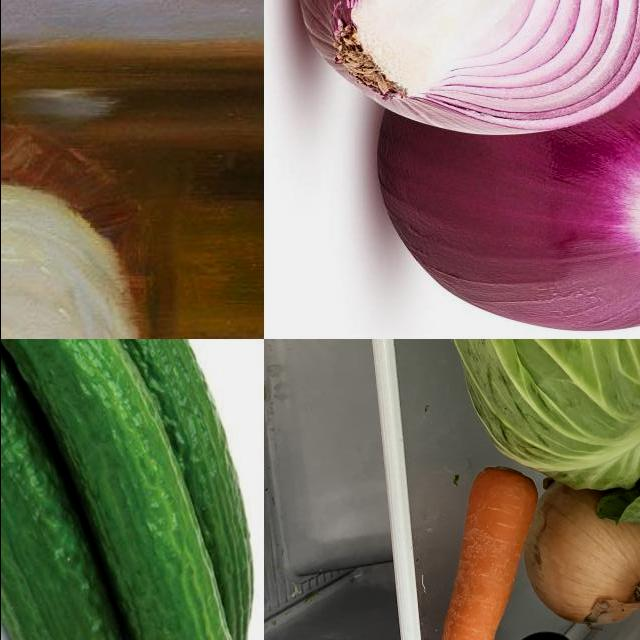cabbage: (402, 340, 640, 530)
carrot: (414, 466, 541, 640)
cucumber: (1, 340, 244, 640), (30, 340, 254, 640), (1, 340, 146, 640)
onion: (380, 1, 640, 334), (286, 1, 640, 137), (1, 165, 149, 340), (520, 472, 640, 629)
